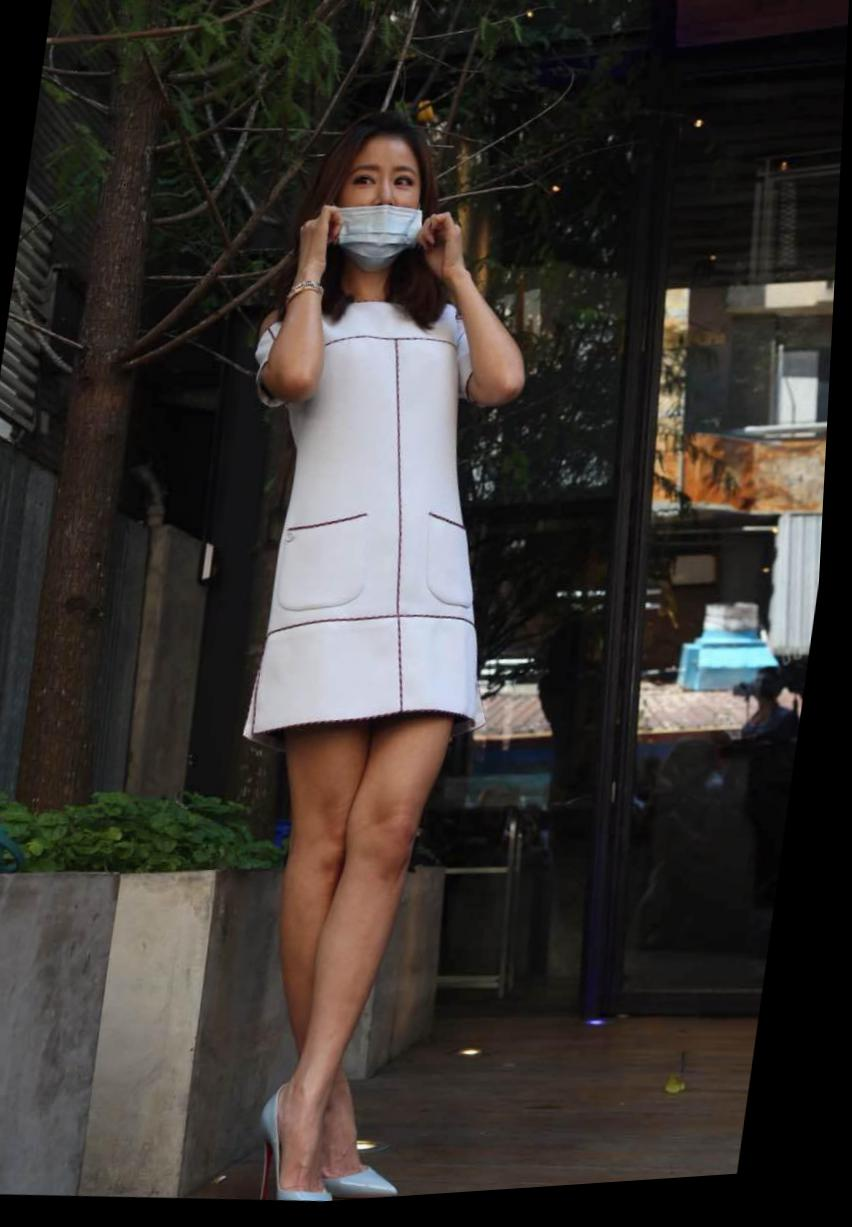WRONG: (332, 153, 434, 272)
